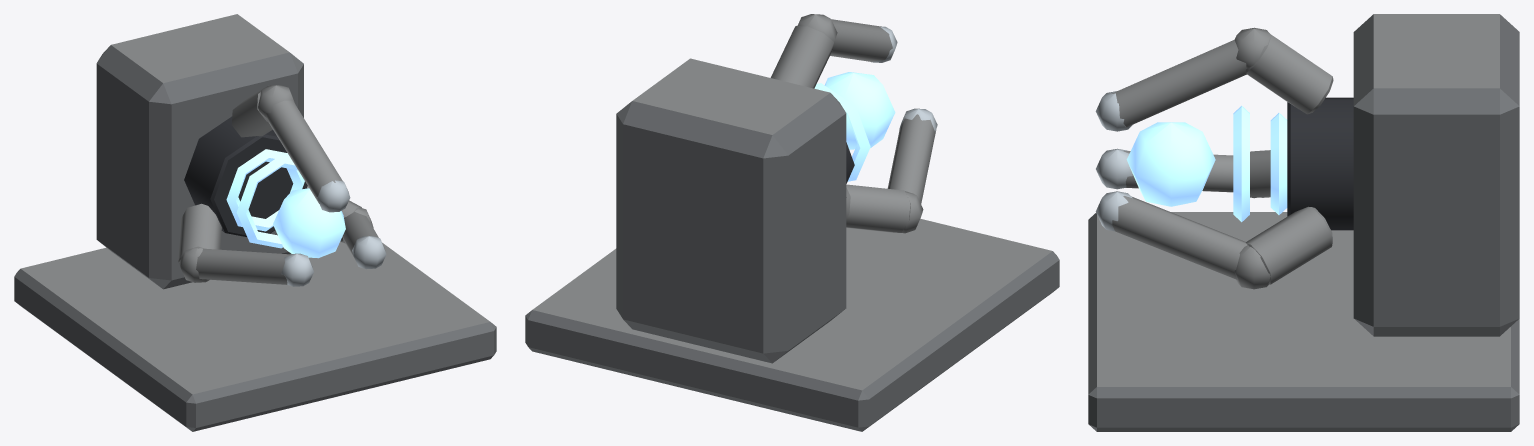
Rendered from R4X_DirectionalEMP_LOD1.glb.
The picture shows the model from 3 angles, left to right: view 1: azimuth 30°, elevation 25°; view 2: azimuth 150°, elevation 25°; view 3: azimuth 270°, elevation 25°; orthographic projection. The views are drawn at different scales.
Visible parts, largest first — view 1: R4X_DirectionalEMP_LOD1; view 2: R4X_DirectionalEMP_LOD1; view 3: R4X_DirectionalEMP_LOD1.
Part boxes in pixels (bbox=[...]): R4X_DirectionalEMP_LOD1: bbox=[14, 14, 496, 431]; R4X_DirectionalEMP_LOD1: bbox=[525, 14, 1059, 431]; R4X_DirectionalEMP_LOD1: bbox=[1088, 14, 1519, 431].
Size of the model in its own units: 0.52 by 0.42 by 0.52.
